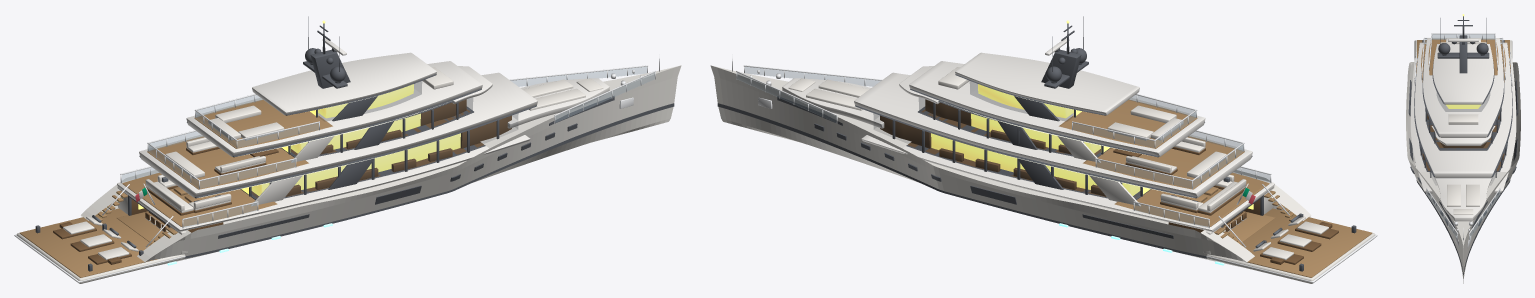
Rendered from superyacht.glb.
3 views of the same model, side by side, from view 1: azimuth 30°, elevation 25°; view 2: azimuth 150°, elevation 25°; view 3: azimuth 270°, elevation 25° (orthographic). The views are drawn at different scales.
Parts seen in each view (by area): view 1: Hull_Shell, BridgeDeck_Fascia, Hardtop_Canopy, SunDeck_Fascia, Swim_Platform_Teak, MainSalon_Glass, MainDeck_Coaming, BridgeDeck_AftTeak, SunDeck_AftTeak, MainDeck_AftTeak, SkyLounge_Glass, MainSalon_InnerCore (+31 smaller); view 2: Hull_Shell, BridgeDeck_Fascia, Hardtop_Canopy, SunDeck_Fascia, Swim_Platform_Teak, MainSalon_Glass, MainDeck_Coaming, BridgeDeck_AftTeak, SunDeck_AftTeak, MainDeck_AftTeak, SkyLounge_Glass, MainSalon_InnerCore (+31 smaller); view 3: BridgeDeck_Fascia, SunDeck_Fascia, Hull_Shell, Hardtop_Canopy, MainDeck_Coaming, Foredeck_Coachroof, SunDeck_AftTeak, Pilothouse_Brow, BridgeDeck_DarkBelt, SkyLounge_SillBot, SunDeck_Glass, SunDeck_FwdLounge (+29 smaller).
Part boxes in pixels (x1,y1,x2,y2): Hull_Shell: (80, 65, 681, 267); BridgeDeck_Fascia: (139, 72, 537, 197); Hardtop_Canopy: (252, 52, 436, 115); SunDeck_Fascia: (186, 61, 482, 156); Swim_Platform_Teak: (19, 208, 157, 277); MainSalon_Glass: (252, 114, 518, 198); MainDeck_Coaming: (117, 135, 530, 231); BridgeDeck_AftTeak: (147, 136, 308, 189); SunDeck_AftTeak: (194, 99, 332, 148); MainDeck_AftTeak: (122, 172, 277, 226); SkyLounge_Glass: (291, 97, 472, 155); MainSalon_InnerCore: (251, 133, 460, 195); Hull_Shell: (710, 65, 1311, 267); BridgeDeck_Fascia: (854, 72, 1252, 197); Hardtop_Canopy: (955, 52, 1139, 115); SunDeck_Fascia: (909, 61, 1205, 156); Swim_Platform_Teak: (1240, 208, 1372, 277); MainSalon_Glass: (873, 114, 1139, 198); MainDeck_Coaming: (861, 135, 1274, 231); BridgeDeck_AftTeak: (1083, 136, 1244, 189); SunDeck_AftTeak: (1059, 99, 1197, 148); MainDeck_AftTeak: (1114, 172, 1269, 226); SkyLounge_Glass: (919, 97, 1100, 155); MainSalon_InnerCore: (931, 133, 1140, 195); BridgeDeck_Fascia: (1414, 42, 1512, 177); SunDeck_Fascia: (1423, 38, 1503, 137); Hull_Shell: (1406, 62, 1520, 283); Hardtop_Canopy: (1433, 44, 1493, 104); MainDeck_Coaming: (1410, 58, 1516, 193); Foredeck_Coachroof: (1434, 177, 1492, 221); SunDeck_AftTeak: (1428, 39, 1498, 75); Pilothouse_Brow: (1431, 126, 1495, 145); BridgeDeck_DarkBelt: (1414, 47, 1512, 177); SkyLounge_SillBot: (1426, 113, 1500, 150); SunDeck_Glass: (1437, 93, 1489, 111); SunDeck_FwdLounge: (1448, 114, 1478, 124).
Size of the model in its own units: 13.44 by 3.9 by 2.76.
